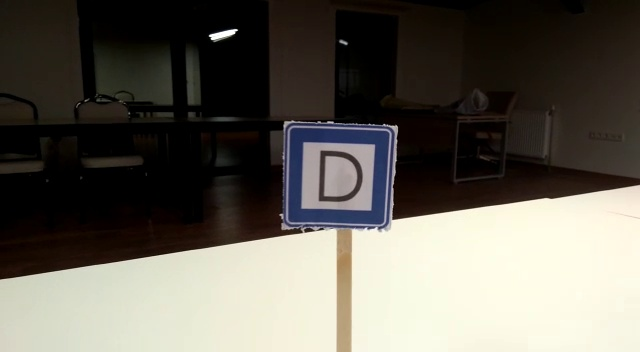durak: (282, 124, 395, 228)
